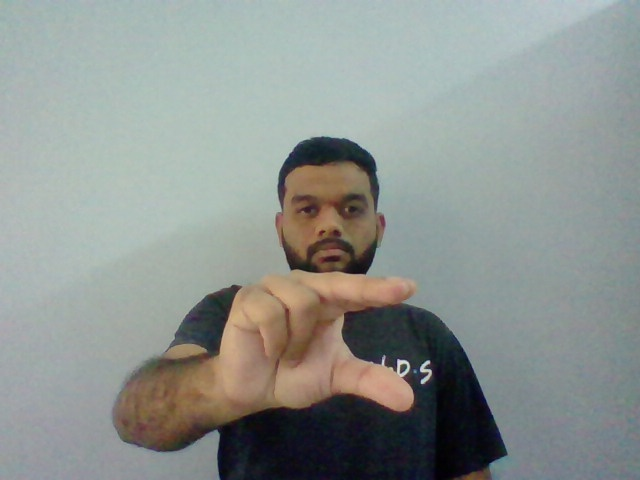No: (219, 267, 423, 414)
